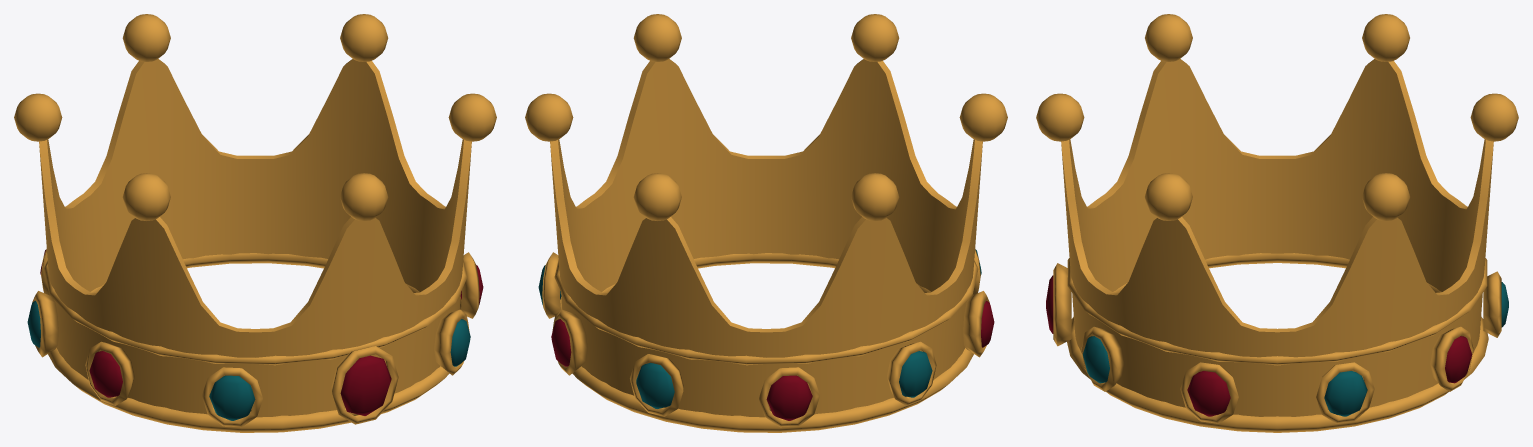
The model's file is KD_Crown_Optimized.fbx.
3 renders of one model, left to right at view 1: azimuth 30°, elevation 25°; view 2: azimuth 150°, elevation 25°; view 3: azimuth 270°, elevation 25°, orthographic.
Parts seen in each view (by area): view 1: KD_Crown_Optimized; view 2: KD_Crown_Optimized; view 3: KD_Crown_Optimized.
Boxes of the visible parts, x1,y1,x2,y2 form: KD_Crown_Optimized: (14,14,496,432); KD_Crown_Optimized: (525,14,1007,432); KD_Crown_Optimized: (1036,14,1518,432).
Bounding box in the file's own units: 0.1658 × 0.1038 × 0.18.
Materials: 1 (1 with a texture image).
